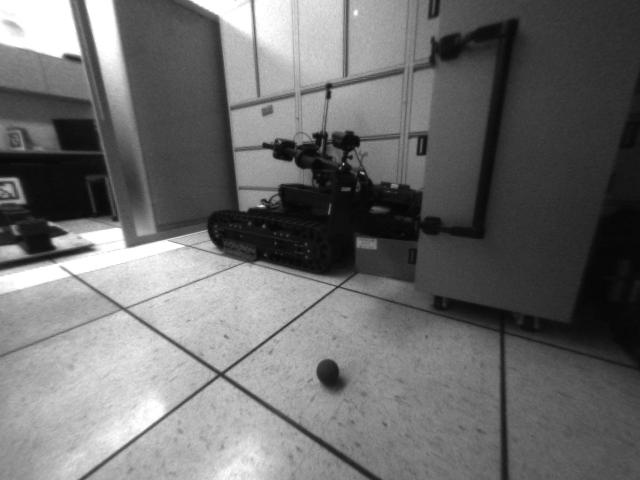dogtoy: (311, 356, 348, 393)
